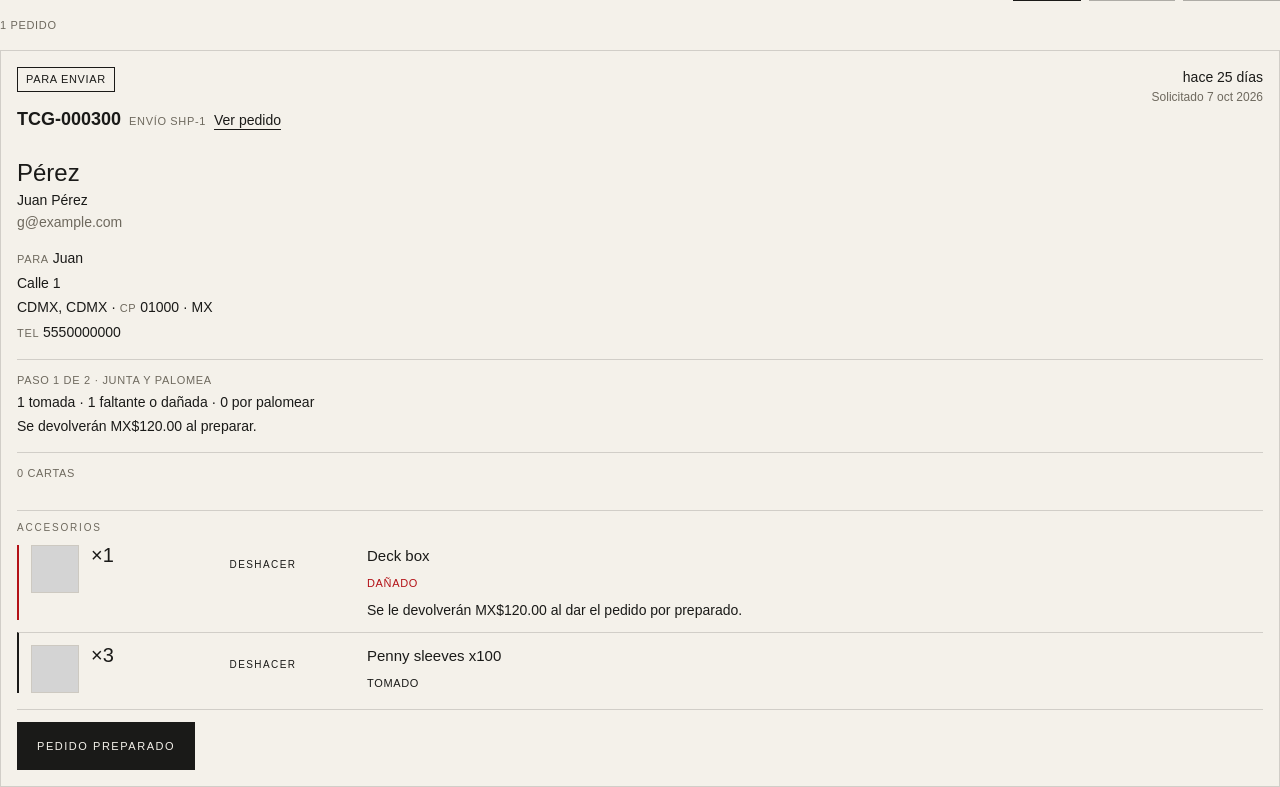
QA §AC.gates · el diálogo de preparado habla del tipo de renglón que falta › un solo accesorio faltante (el resto sale): ningún texto del diálogo dice «carta»
The width and height of the screenshot is (1280, 787).
(page scrolled)
Click the button "Pedido preparado".
click(106, 746)  # box [17, 722, 195, 770]
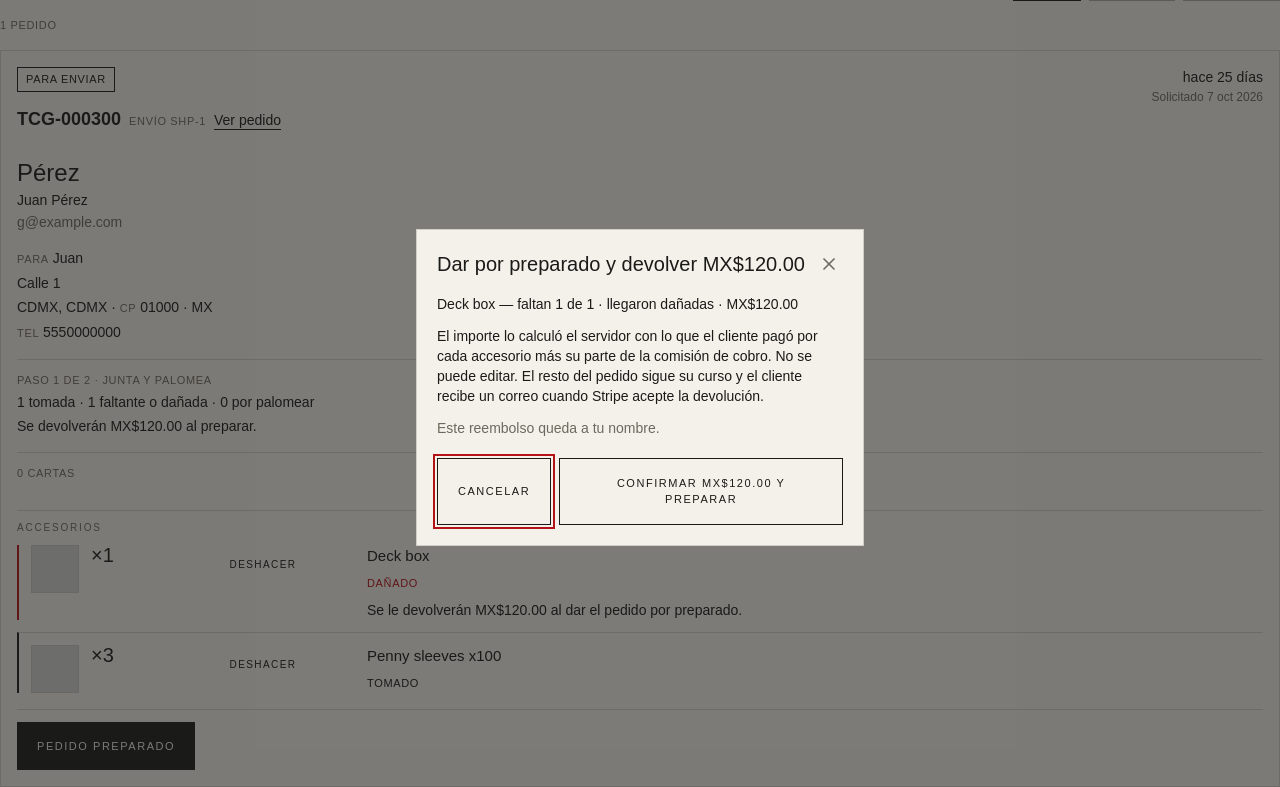
Check: the dialog does not show "carta"
Check: the dialog shows "lo que el cliente pagó por cada accesorio más su parte de la comisión", box [437, 328, 818, 404]
Check: the dialog shows "Este reembolso queda a tu nombre.", box [437, 420, 660, 436]
